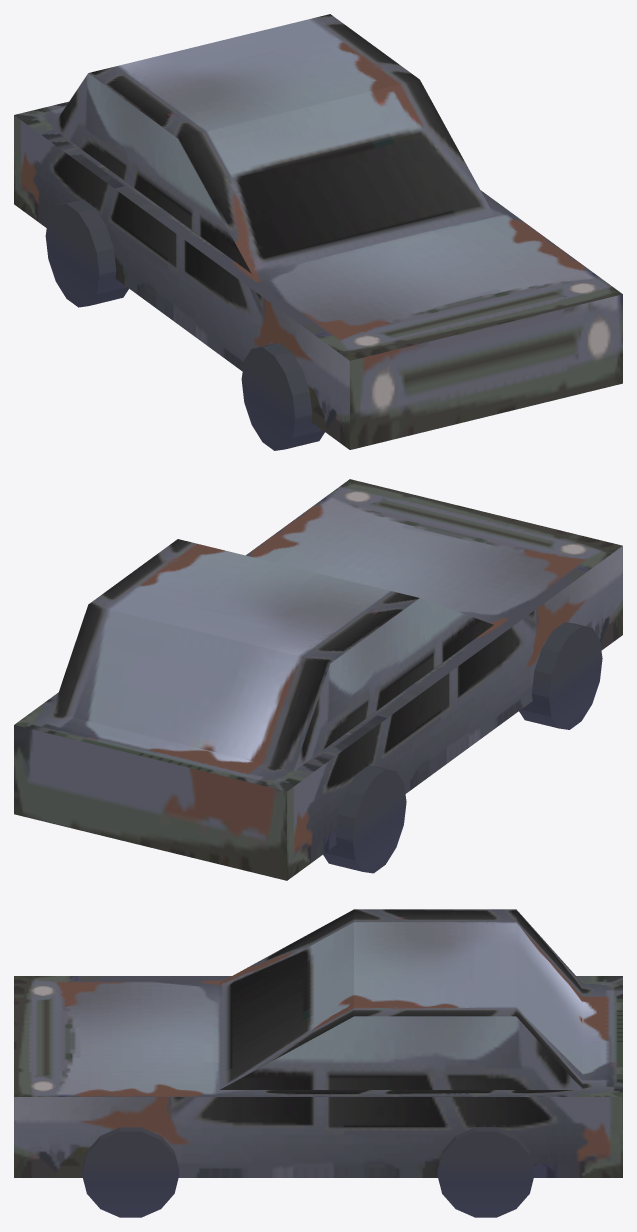
The model's file is Building_AncientRustedCar__D.glb.
3 views of the same model, one above another, from view 1: azimuth 30°, elevation 25°; view 2: azimuth 150°, elevation 25°; view 3: azimuth 270°, elevation 25° (orthographic). The views are drawn at different scales.
Parts seen in each view (by area): view 1: AncientRustedCar; view 2: AncientRustedCar; view 3: AncientRustedCar.
Boxes of the visible parts, bbox=[...] form: AncientRustedCar: bbox=[14, 14, 622, 450]; AncientRustedCar: bbox=[14, 479, 622, 880]; AncientRustedCar: bbox=[14, 909, 622, 1217].
Size of the model in its own units: 1.93 by 1.29 by 3.75.
Materials: 1 (1 with a texture image).
